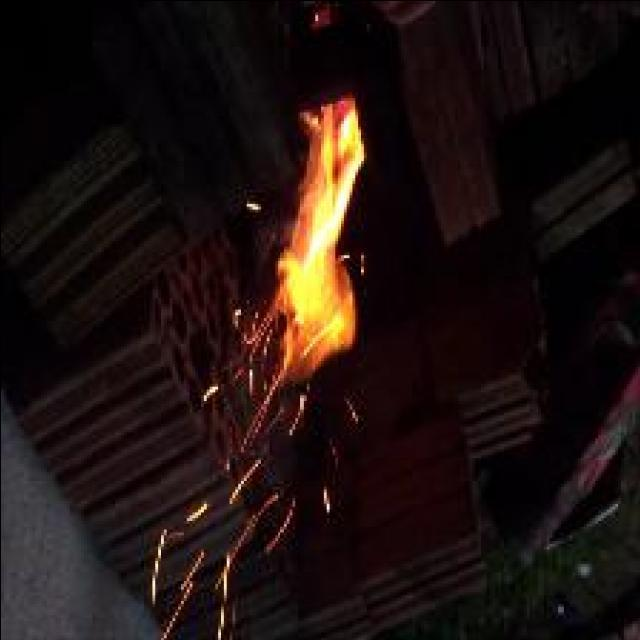Fire: (274, 99, 362, 387)
